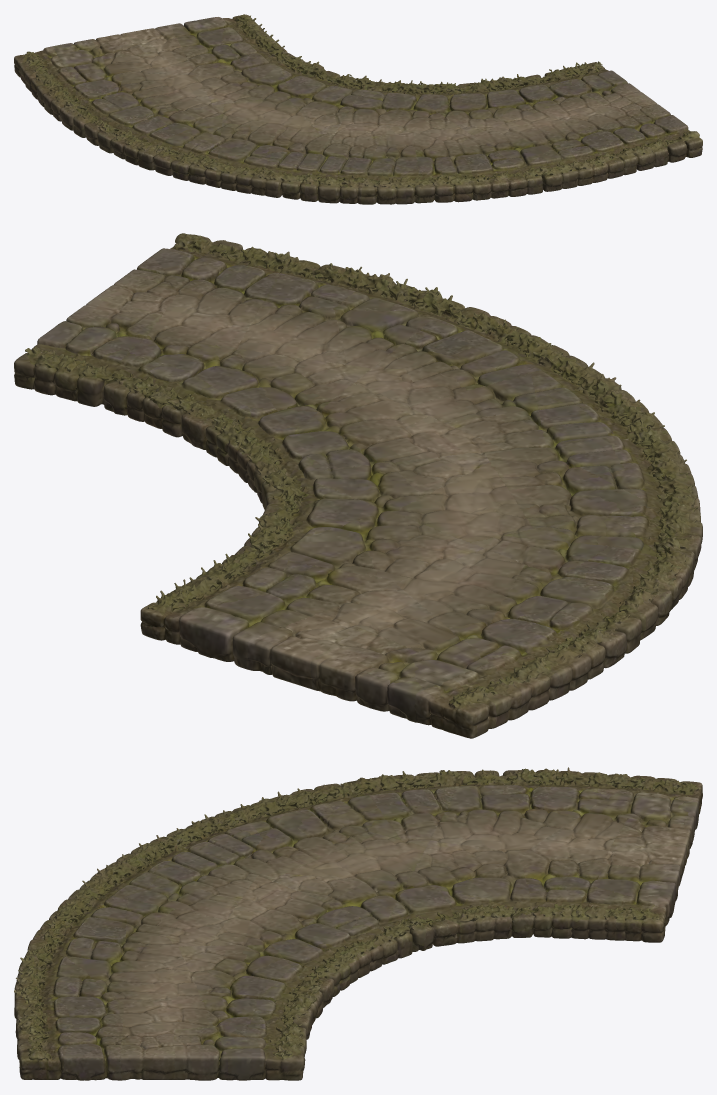
File: Meshy_AI_road_curve_right_stro_0823032022_image-to-3d-texture.glb
3 views of the same model, one above another, from view 1: azimuth 30°, elevation 25°; view 2: azimuth 150°, elevation 25°; view 3: azimuth 270°, elevation 25° (orthographic). The views are drawn at different scales.
Parts seen in each view (by area): view 1: mesh_node; view 2: mesh_node; view 3: mesh_node.
Boxes of the visible parts, bbox=[...] form: mesh_node: bbox=[14, 14, 702, 204]; mesh_node: bbox=[14, 233, 702, 738]; mesh_node: bbox=[14, 767, 702, 1080].
Bounding box in the file's own units: 1.9 × 0.088 × 1.89.
Materials: 1 (1 with a texture image).
